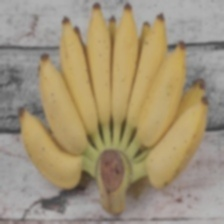banana: (5, 11, 196, 169)
